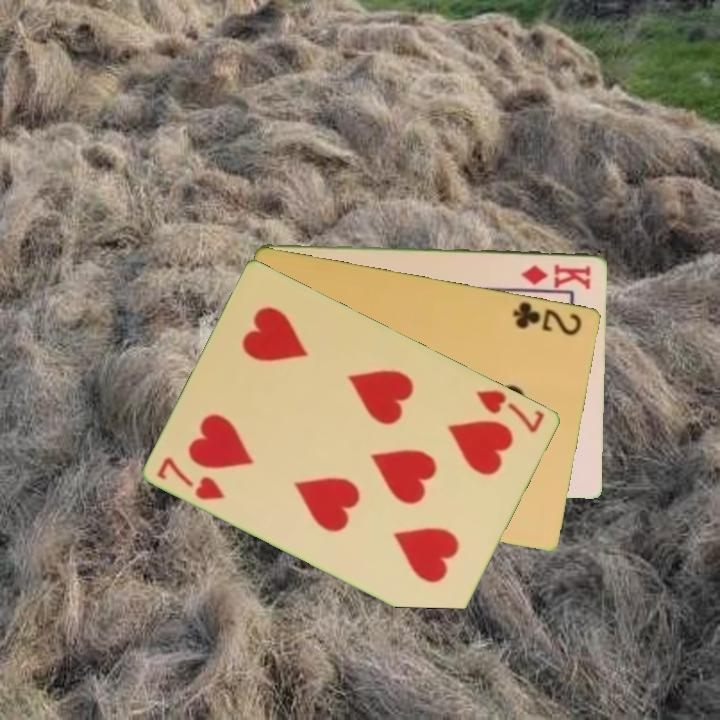2c: (509, 297, 585, 338)
7h: (154, 452, 228, 503), (473, 386, 548, 436)
Kd: (518, 260, 594, 289)
